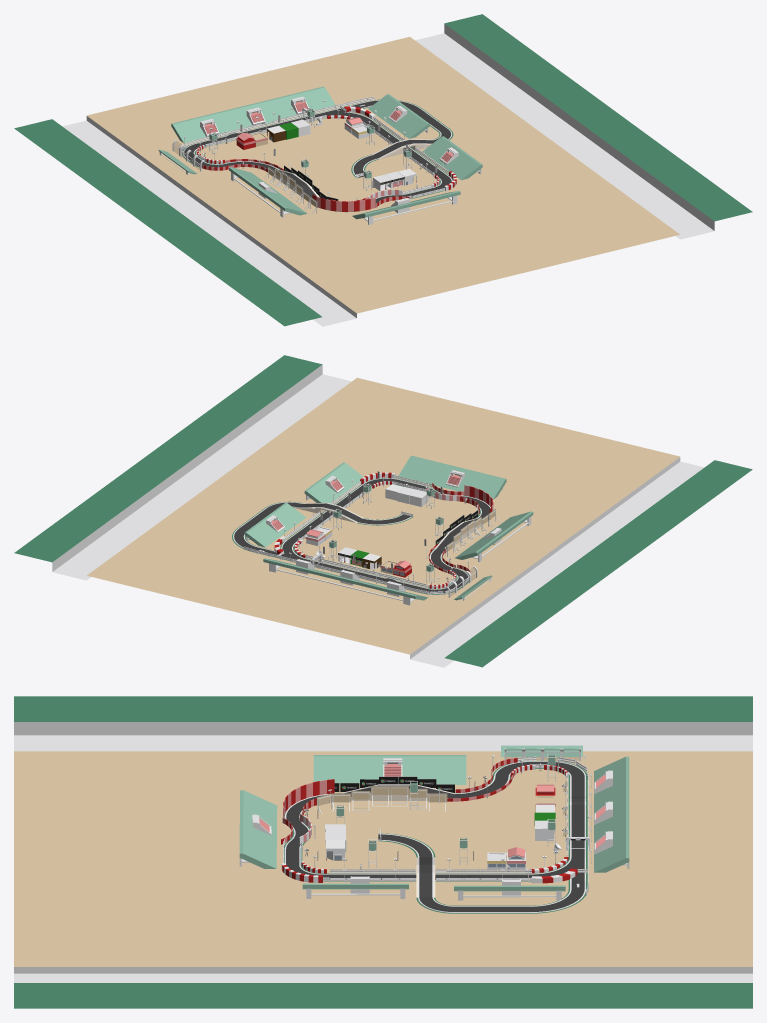
File: track_k2.glb
3 views of the same model, one above another, from view 1: azimuth 30°, elevation 25°; view 2: azimuth 150°, elevation 25°; view 3: azimuth 270°, elevation 25° (orthographic). The views are drawn at different scales.
Visible parts, largest first — view 1: bannerTowerGreen(Clone); view 2: bannerTowerGreen(Clone); view 3: bannerTowerGreen(Clone).
Part boxes in pixels (bbox=[...]): bannerTowerGreen(Clone): bbox=[14, 14, 752, 326]; bannerTowerGreen(Clone): bbox=[14, 355, 752, 667]; bannerTowerGreen(Clone): bbox=[14, 696, 752, 1008].
Bounding box in the file's own units: 38.84 × 2.2 × 38.84.
66 materials, 5 textured.
